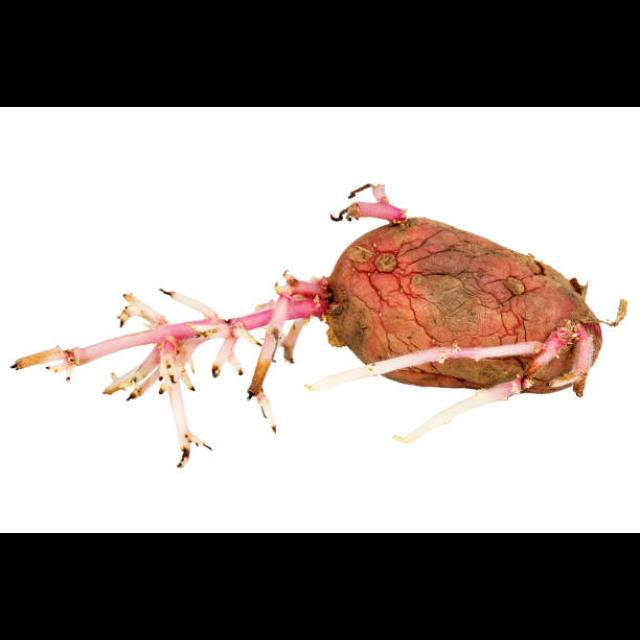Sprouted potato: (1, 169, 634, 463)
